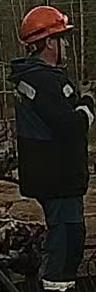gloves: (82, 80, 96, 116)
helmet: (17, 5, 74, 44)
vest: (9, 57, 89, 198)
